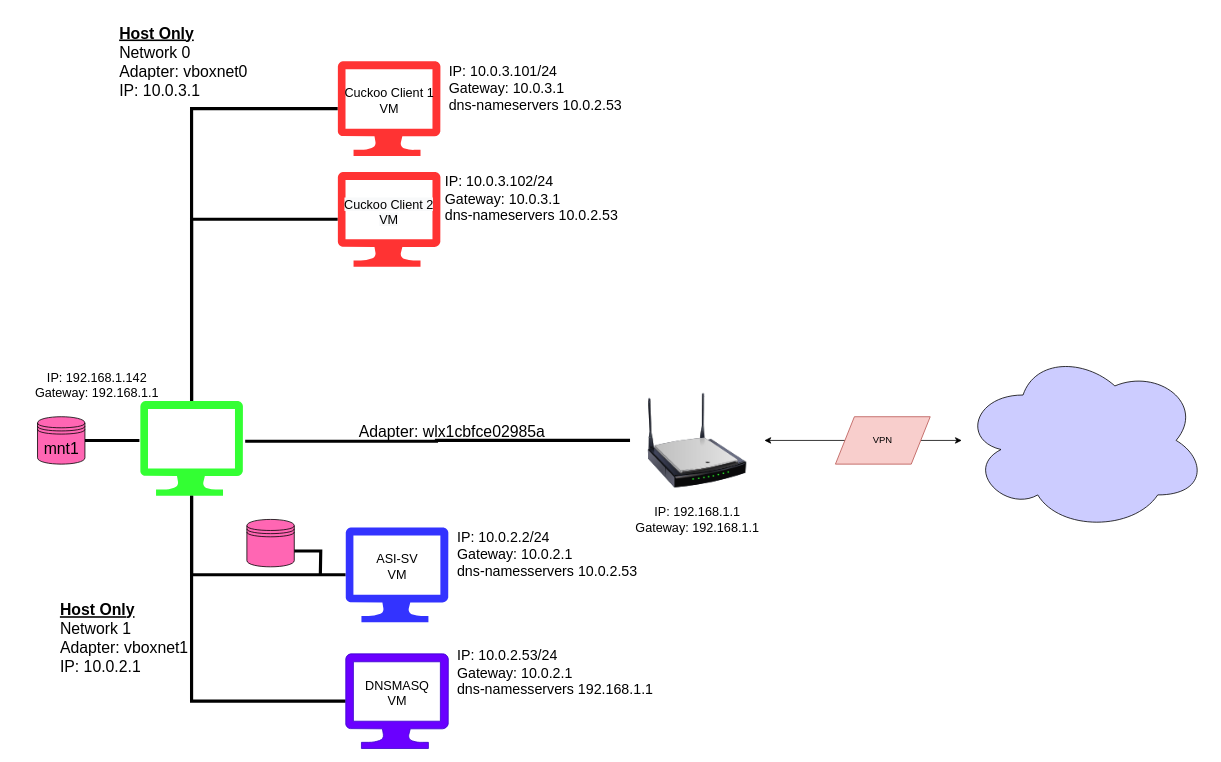
Some shapes in this 1221 by 762 pixel diagram are drawn without their labels. The centre of each missing label's shape, as x and y in pixels:
Cuckoo Host MAIN PC: (191,448)
INTERNET: (1084,440)
mnt0: (270,543)
